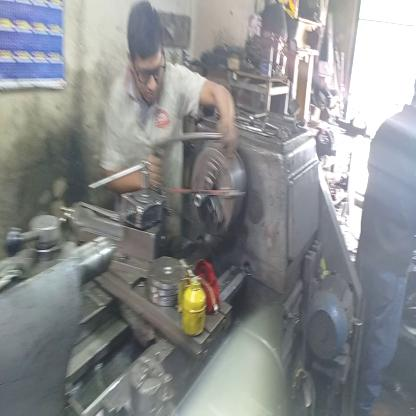lentes: (131, 60, 167, 86)
